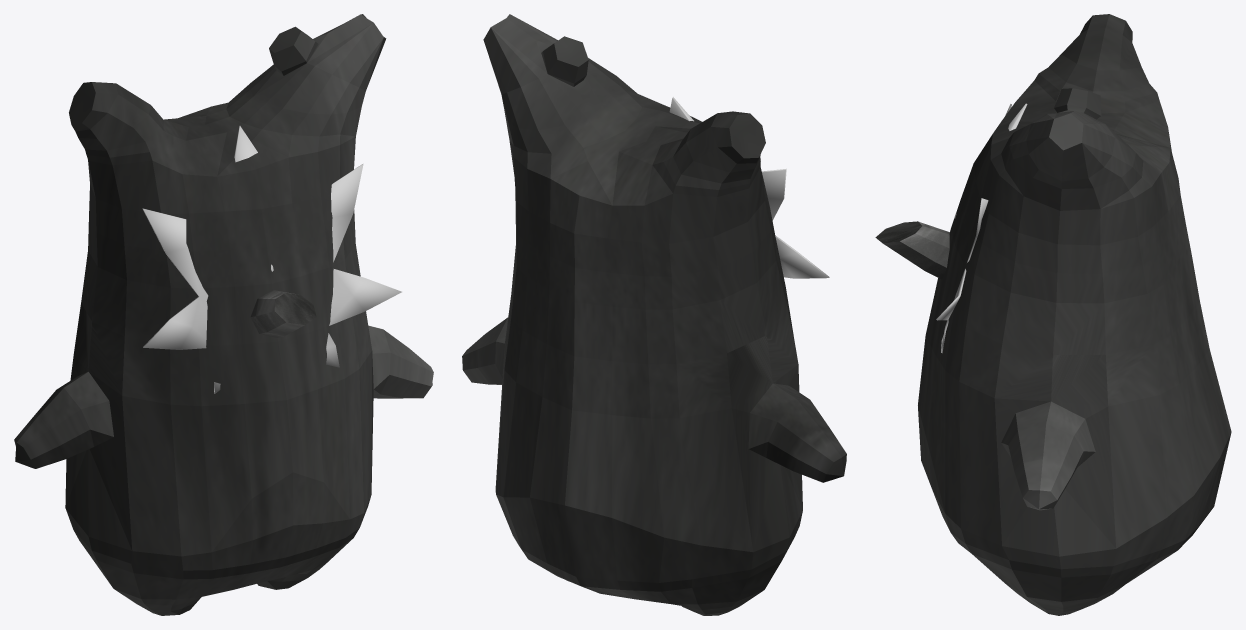
Rendered from frame_0092.obj.
3 views of the same model, side by side, from view 1: azimuth 30°, elevation 25°; view 2: azimuth 150°, elevation 25°; view 3: azimuth 270°, elevation 25° (orthographic).
Parts seen in each view (by area): view 1: korok, leaf.003_柱体.013, nose.003_柱体.011; view 2: korok, leaf.003_柱体.013; view 3: korok, nose.003_柱体.011, leaf.003_柱体.013.
Part boxes in pixels (<box>): korok: <box>14,14,433,615</box>; leaf.003_柱体.013: <box>142,126,401,393</box>; nose.003_柱体.011: <box>250,290,316,337</box>; korok: <box>462,14,846,615</box>; leaf.003_柱体.013: <box>669,97,829,278</box>; korok: <box>918,14,1231,615</box>; nose.003_柱体.011: <box>875,221,949,279</box>; leaf.003_柱体.013: <box>936,103,1027,353</box>.
Size of the model in its own units: 1.68 by 2.22 by 1.32.
